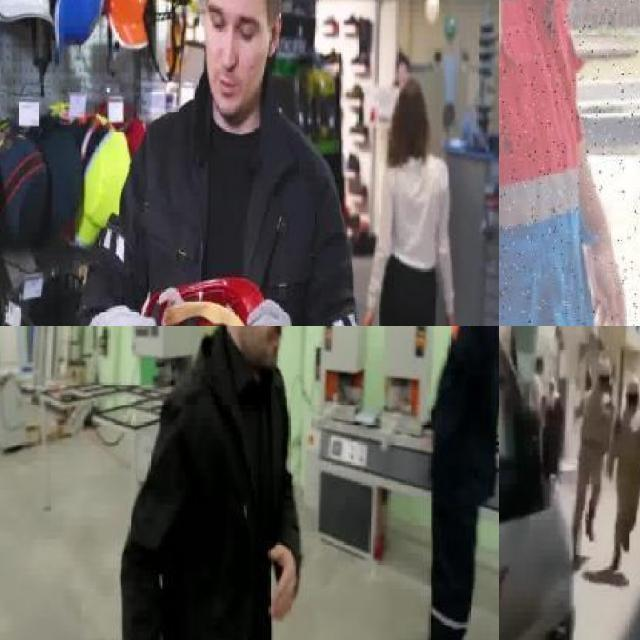apron: (86, 304, 157, 326), (243, 297, 295, 326)
